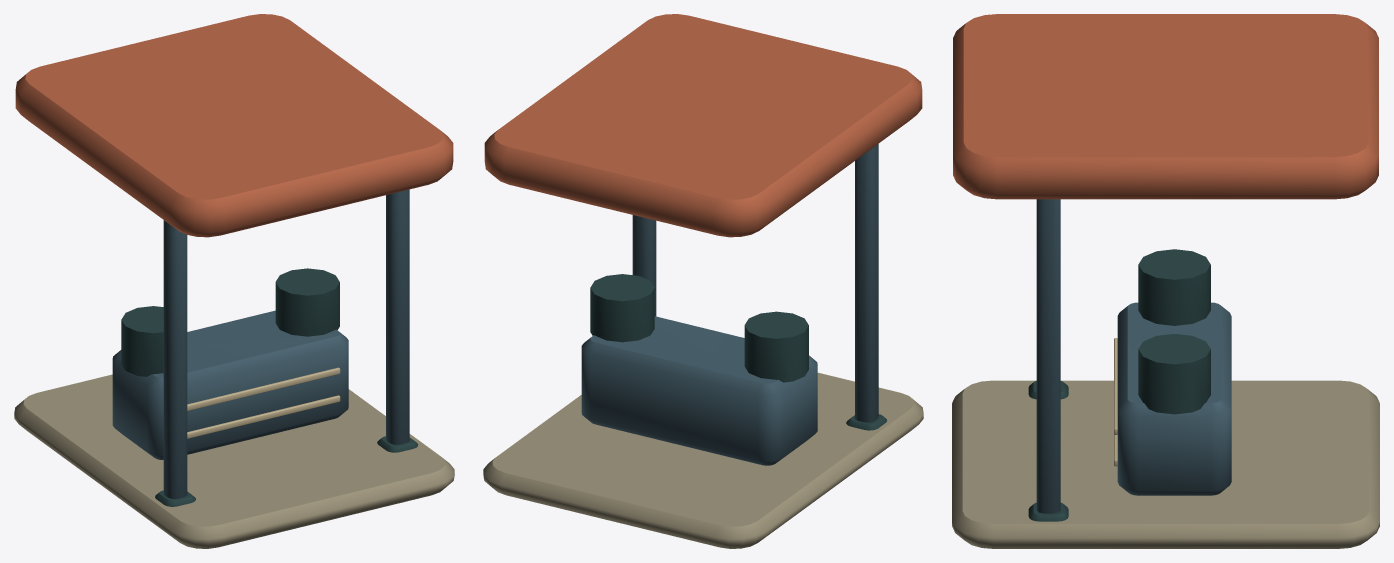
The model's file is annex_tires_3.glb.
The picture shows the model from 3 angles, left to right: view 1: azimuth 30°, elevation 25°; view 2: azimuth 150°, elevation 25°; view 3: azimuth 270°, elevation 25°; orthographic projection. The views are drawn at different scales.
Visible parts, largest first — view 1: AnnexTires3; view 2: AnnexTires3; view 3: AnnexTires3.
Boxes of the visible parts, x1=… form: AnnexTires3: x1=14, y1=14, x2=454, y2=548; AnnexTires3: x1=483, y1=14, x2=923, y2=548; AnnexTires3: x1=952, y1=14, x2=1379, y2=548.
Bounding box in the file's own units: 2.09 × 2.51 × 2.48.
